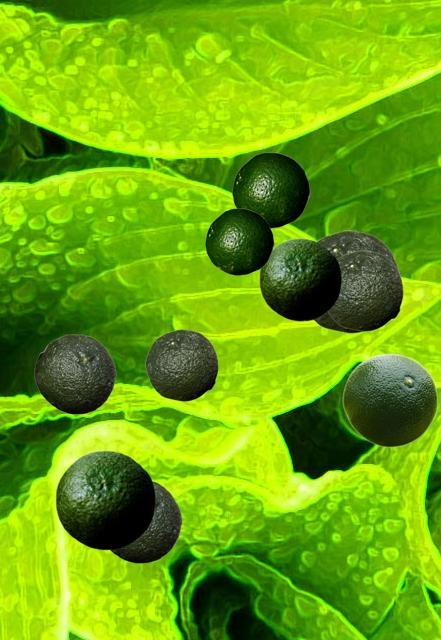calamansi: (55, 450, 154, 549), (342, 353, 437, 446), (314, 230, 399, 332), (259, 238, 340, 320), (34, 334, 115, 413), (328, 250, 402, 330), (109, 480, 181, 562), (232, 152, 309, 227), (145, 329, 217, 400), (205, 208, 273, 274)
